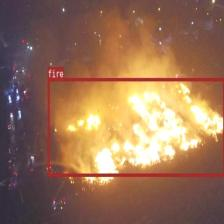fire: (47, 78, 224, 176)
